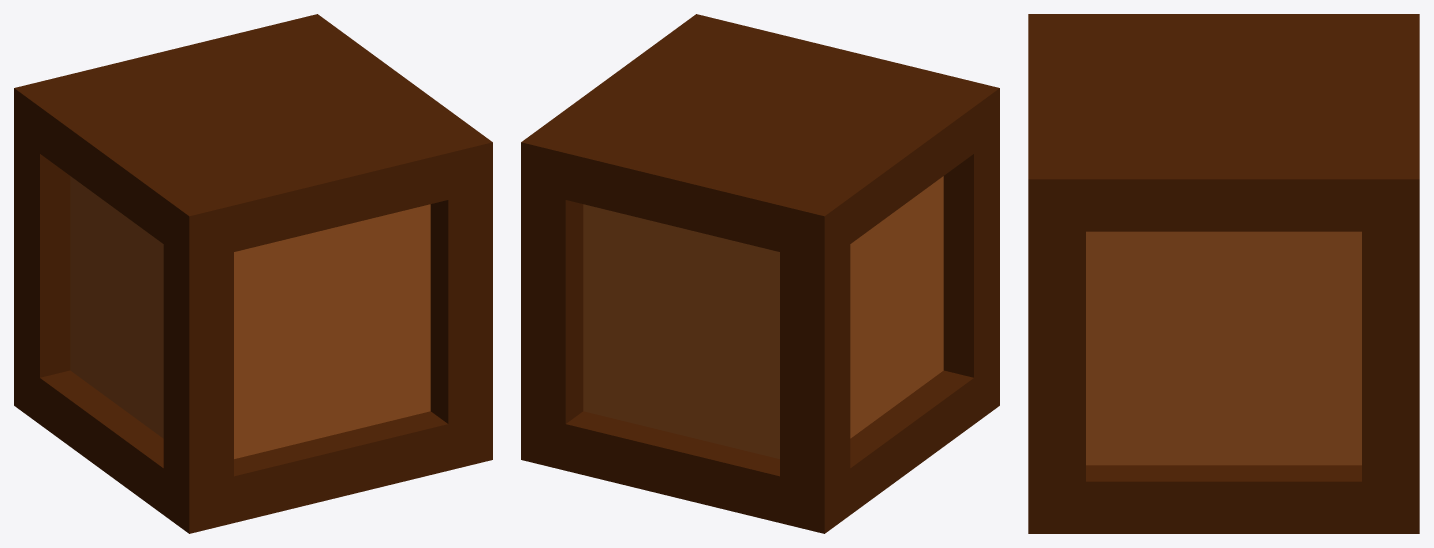
The model's file is City1House7.fbx.
The picture shows the model from 3 angles, left to right: view 1: azimuth 30°, elevation 25°; view 2: azimuth 150°, elevation 25°; view 3: azimuth 270°, elevation 25°; orthographic projection. The views are drawn at different scales.
Visible parts, largest first — view 1: Cube.034; view 2: Cube.034; view 3: Cube.034.
Part boxes in pixels (x1,y1,x2,y2): Cube.034: (14,14,492,533); Cube.034: (521,14,999,533); Cube.034: (1028,14,1419,533).
Size of the model in its own units: 100 by 100 by 100.
